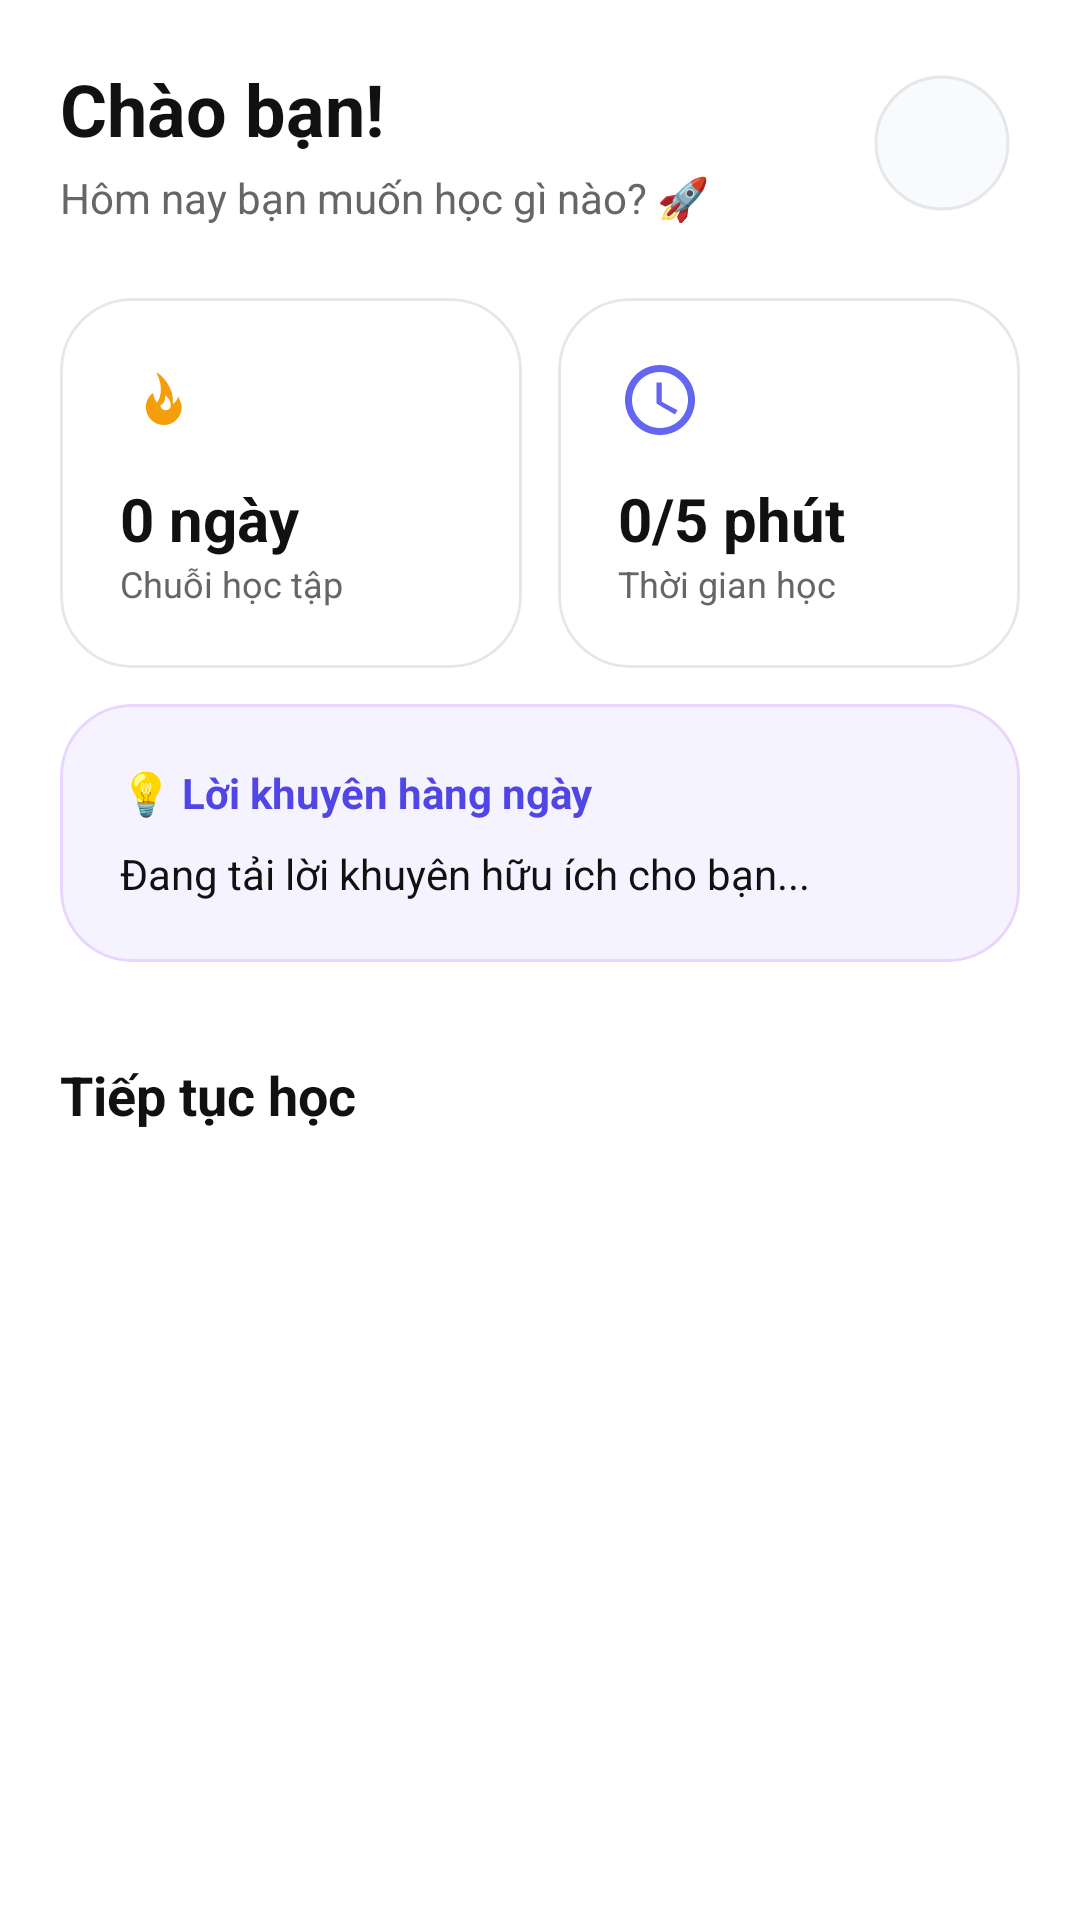

Where icons sit on this 1080px x 1920px app screen, as rect(x1, y1, x2, y2):
Streak icon: rect(145, 372, 182, 425)
Study time icon: rect(625, 365, 695, 435)
